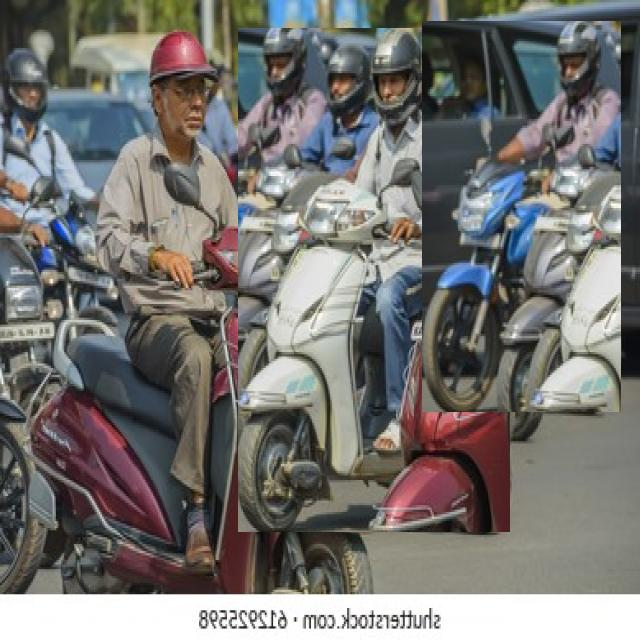motorcycle: (31, 31, 378, 593), (238, 28, 510, 532), (422, 21, 620, 412), (370, 45, 545, 439)
